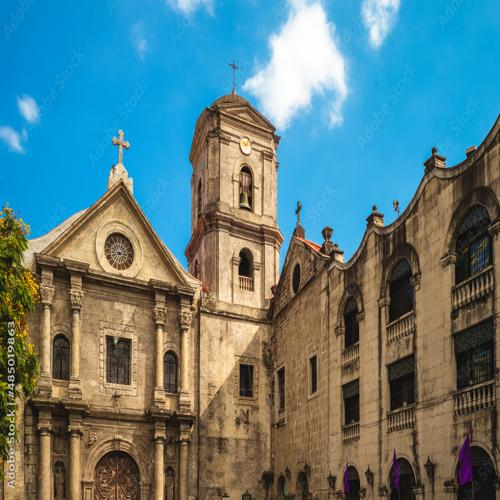San Agustin Church: (19, 43, 284, 500)
